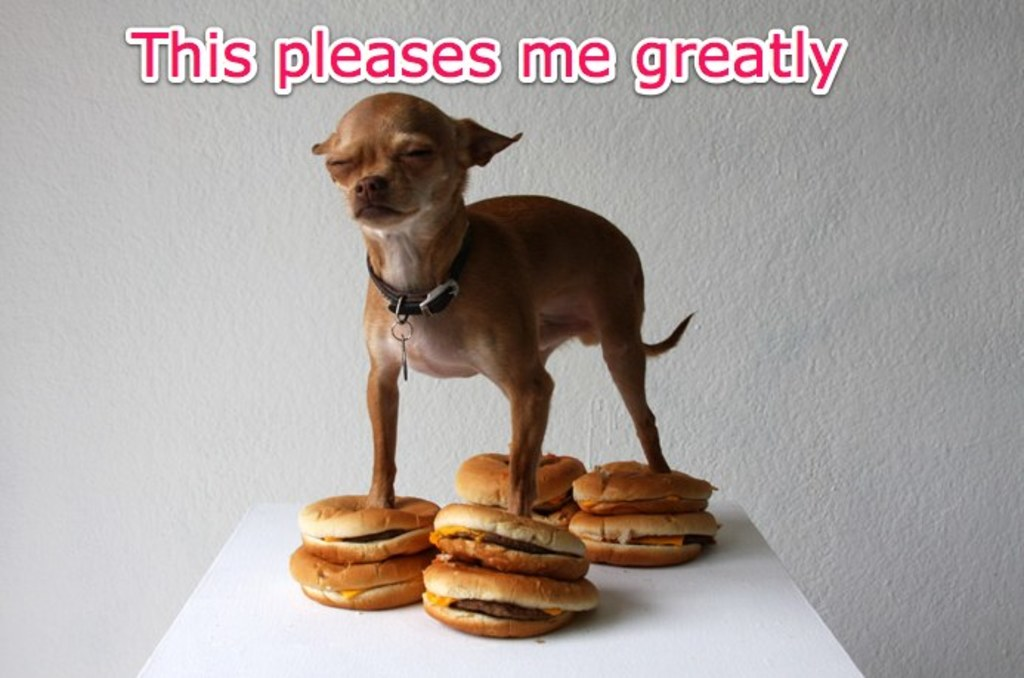Hamburger: (418, 564, 596, 635), (429, 503, 591, 574), (297, 490, 438, 565), (288, 545, 428, 610), (570, 509, 721, 568), (456, 452, 585, 515), (571, 460, 716, 516)
